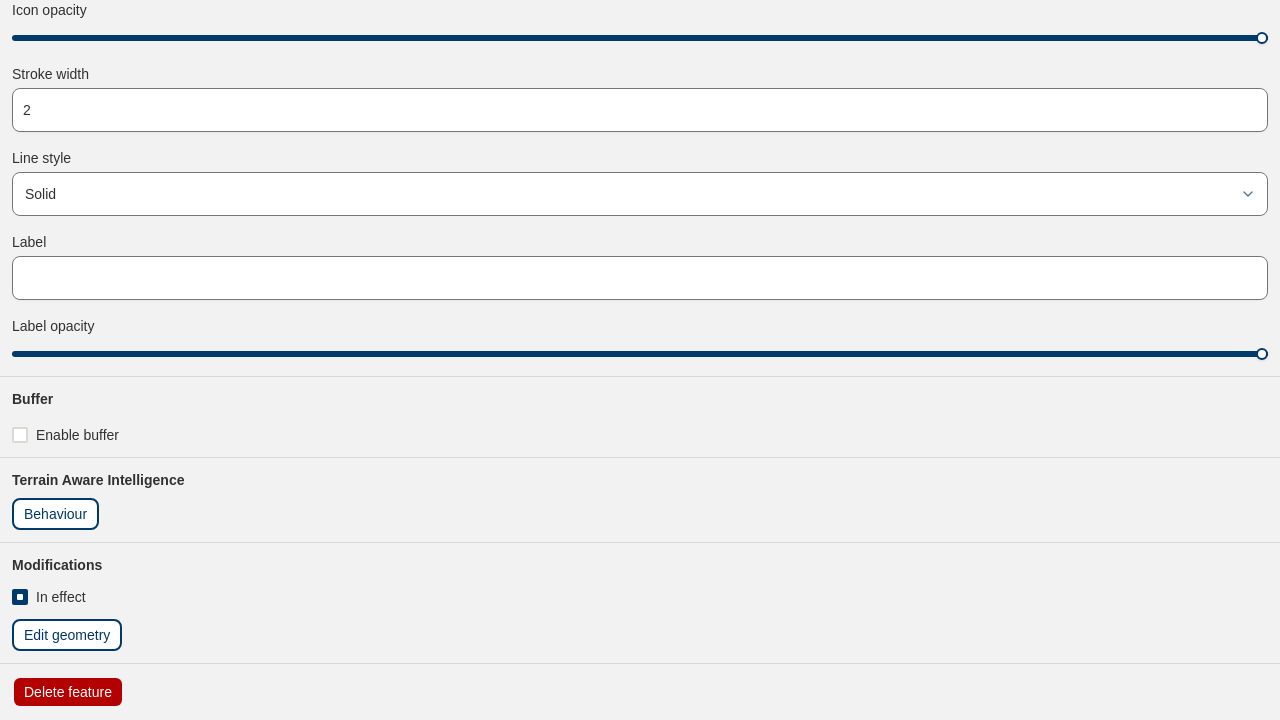
Test: StyleEditorPanel › shows a Behaviour button above Edit geometry that opens the rule popup
(page scrolled)
Step 1. Click the button "Behaviour" → (56, 514), box [12,498,99,530]
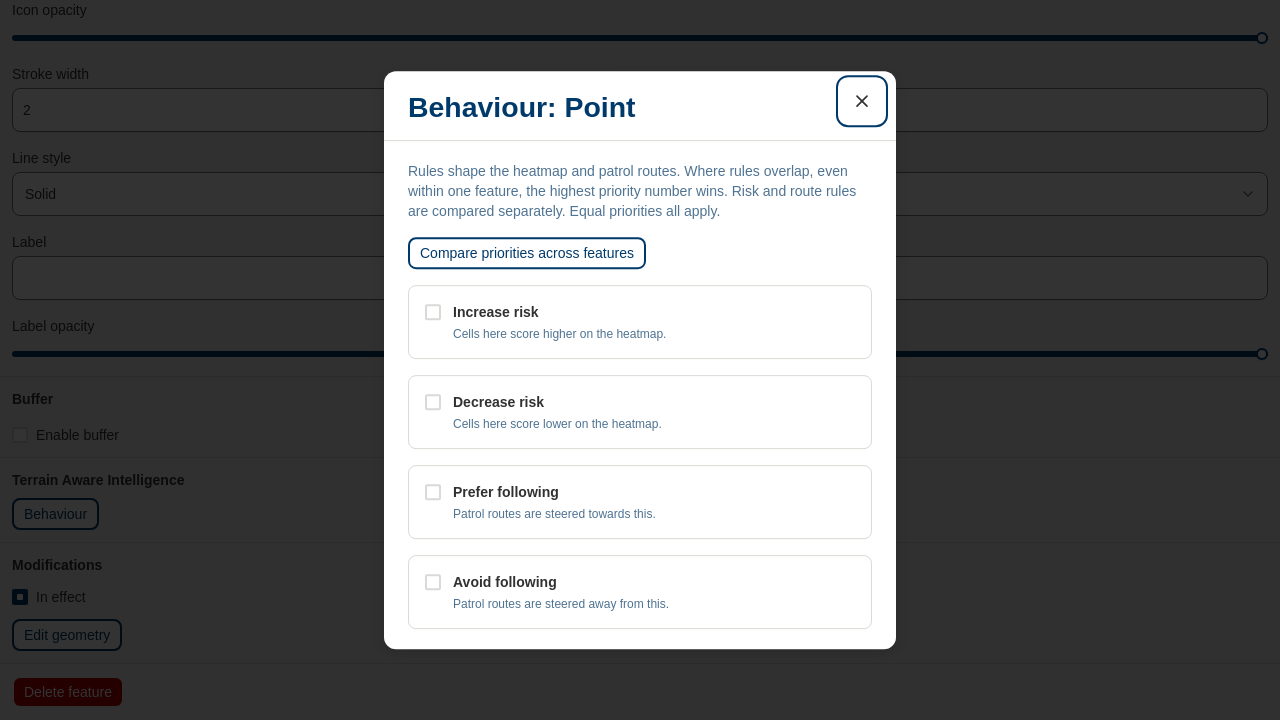
Now the dialog is shown, box [384,71,896,649]
Now the checkbox labelled "Increase risk" is shown, box [425,304,441,320]
